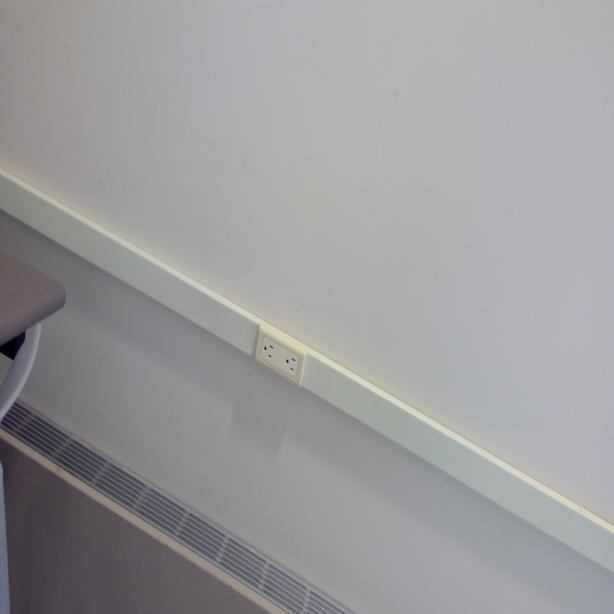typeb: (260, 338, 277, 363), (284, 350, 300, 376)
